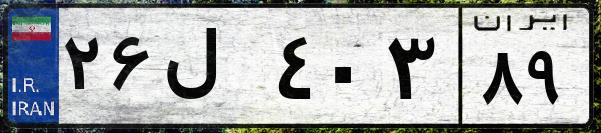0: (330, 28, 385, 110)
2: (57, 26, 110, 100)
3: (385, 28, 445, 110)
4: (270, 28, 330, 110)
6: (110, 28, 158, 98)
8: (475, 38, 525, 113)
9: (525, 38, 570, 115)
ل: (158, 20, 270, 120)
